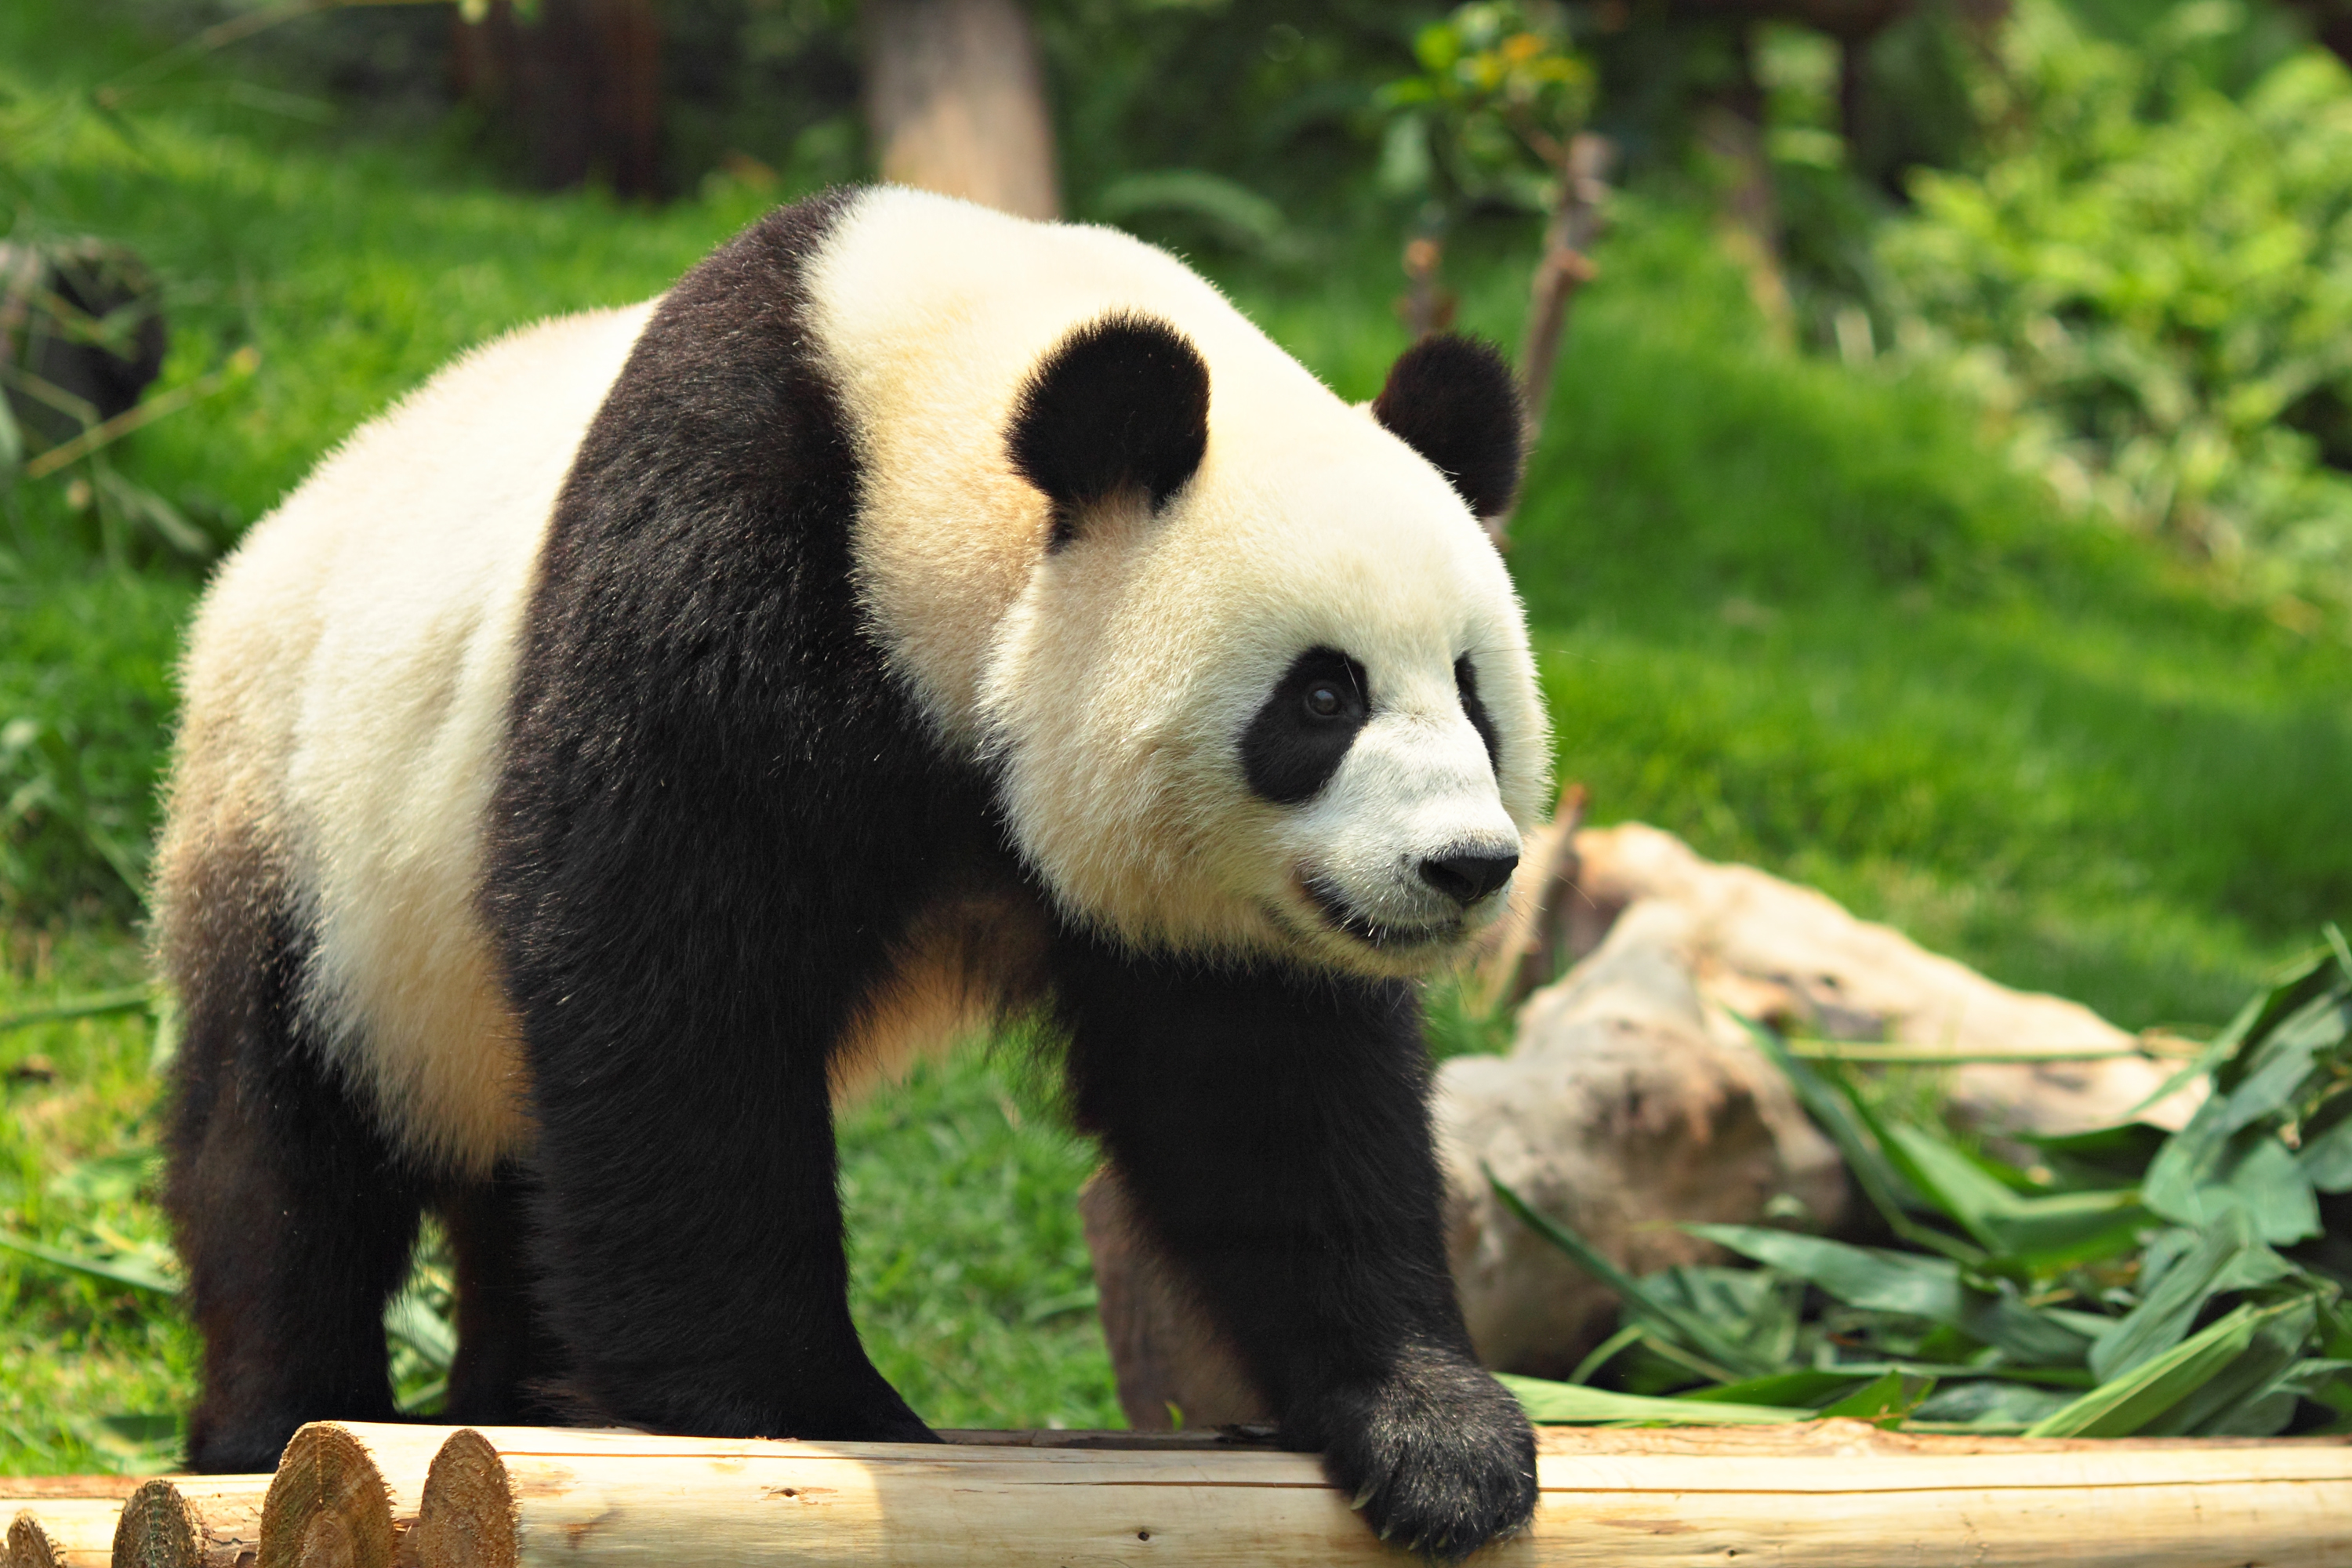panda: (157, 175, 1692, 1542)
